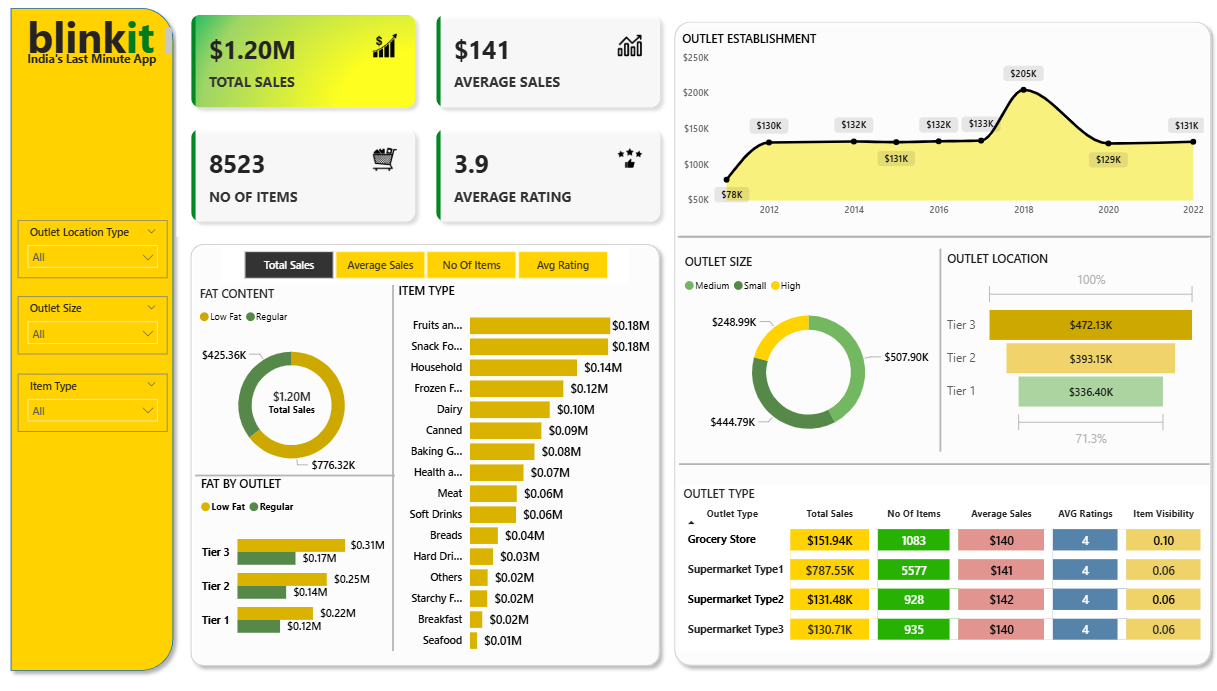

This screenshot's page, from the dashboard's own definition file:
{"tool":"powerbi","page":{"name":"Page 1","canvas":[1400,800],"ordinal":0},"visuals":[{"type":"shape","box":[10.5,0,204.1,775.9],"z":0},{"type":"textbox","box":[33,16.5,175.6,54],"z":1000},{"type":"textbox","box":[33,52.5,169.6,34.5],"z":2000},{"type":"cardVisual","fields":{"Data":["BlinkIT Grocery Data.Total Sales","BlinkIT Grocery Data.Average Sales","BlinkIT Grocery Data.No Of Items","BlinkIT Grocery Data.Average Ratings"]},"box":[208.6,0,570.3,270.2],"z":3000},{"type":"shape","box":[215,270,554,500],"z":4000},{"type":"donutChart","title":"FAT CONTENT","fields":{"Y":["BlinkIT Grocery Data.Total Sales"],"Category":["BlinkIT Grocery Data.Item Fat Content"]},"box":[229.6,325.7,220.6,229.6],"z":5000},{"type":"slicer","fields":{"Values":["Metrics.Metrics"]},"box":[259.6,280.7,465.3,45],"z":6000},{"type":"cardVisual","fields":{"Data":["BlinkIT Grocery Data.Total Sales"]},"box":[285.2,426.2,109.6,67.5],"z":7000},{"type":"clusteredBarChart","title":" FAT BY OUTLET","fields":{"Y":["BlinkIT Grocery Data.Total Sales"],"Category":["BlinkIT Grocery Data.Outlet Location Type"],"Series":["BlinkIT Grocery Data.Item Fat Content"]},"box":[231.7,543,219.9,202.2],"z":8000},{"type":"shape","box":[229.6,531.3,228.1,24],"z":9000},{"type":"shape","box":[450.3,325.7,12,418.7],"z":10000},{"type":"barChart","title":"ITEM TYPE","fields":{"Y":["BlinkIT Grocery Data.Total Sales"],"Category":["BlinkIT Grocery Data.Item Type"]},"box":[457.8,322.7,297.2,433.7],"z":11000},{"type":"shape","box":[768.8,16.2,631.5,754],"z":12000},{"type":"lineChart","title":"OUTLET ESTABLISHMENT","fields":{"Y":["BlinkIT Grocery Data.Total Sales"],"Category":["BlinkIT Grocery Data.Outlet Establishment Year"]},"box":[781.9,34.5,606.3,222.1],"z":13000},{"type":"shape","box":[785,256.7,606.5,26.6],"z":14000},{"type":"donutChart","title":"OUTLET SIZE","fields":{"Y":["BlinkIT Grocery Data.Total Sales"],"Category":["BlinkIT Grocery Data.Outlet Size"]},"box":[785,290.7,293.6,225.8],"z":15000},{"type":"shape","box":[1075.7,284.8,11.8,231.7],"z":16000},{"type":"funnel","title":"OUTLET LOCATION","fields":{"Y":["BlinkIT Grocery Data.Total Sales"],"Category":["BlinkIT Grocery Data.Outlet Location Type"]},"box":[1084.5,286.3,295.1,230.2],"z":17000},{"type":"shape","box":[783.5,516.4,606.5,26.6],"z":18000},{"type":"pivotTable","title":"OUTLET TYPE","fields":{"Rows":["BlinkIT Grocery Data.Outlet Type"],"Values":["BlinkIT Grocery Data.Total Sales","BlinkIT Grocery Data.No Of Items","BlinkIT Grocery Data.Average Sales","BlinkIT Grocery Data.AVG Ratings","Avg(BlinkIT Grocery Data.Item Visibility)"]},"box":[783.5,554.8,606.5,190.3],"z":19000},{"type":"actionButton","box":[0,0,100,40],"z":20000},{"type":"slicer","fields":{"Values":["BlinkIT Grocery Data.Outlet Location Type"]},"box":[26.6,250.8,171.2,66.4],"z":21000},{"type":"shape","box":[781.9,256.6,606.3,27],"z":22000},{"type":"slicer","fields":{"Values":["BlinkIT Grocery Data.Outlet Size"]},"box":[26.6,337.9,171.2,66.4],"z":23000},{"type":"slicer","fields":{"Values":["BlinkIT Grocery Data.Item Type"]},"box":[26.6,426.4,171.2,66.4],"z":23001}]}

Visuals, with their boxes in screenshot pixels (x1, y1, x2, y2), scaled from the page's 1400x800 canvas onto the 1217x691 screenshot:
shape: x1=9 y1=0 x2=187 y2=670
textbox: x1=29 y1=14 x2=181 y2=61
textbox: x1=29 y1=45 x2=176 y2=75
cardVisual - BlinkIT Grocery Data.Total Sales x BlinkIT Grocery Data.Average Sales: x1=181 y1=0 x2=677 y2=233
shape: x1=187 y1=233 x2=668 y2=665
"FAT CONTENT" donutChart: x1=200 y1=281 x2=391 y2=480
slicer - Metrics.Metrics: x1=226 y1=242 x2=630 y2=281
cardVisual - BlinkIT Grocery Data.Total Sales: x1=248 y1=368 x2=343 y2=426
" FAT BY OUTLET" clusteredBarChart: x1=201 y1=469 x2=393 y2=644
shape: x1=200 y1=459 x2=398 y2=480
shape: x1=391 y1=281 x2=402 y2=643
"ITEM TYPE" barChart: x1=398 y1=279 x2=656 y2=653
shape: x1=668 y1=14 x2=1216 y2=665
"OUTLET ESTABLISHMENT" lineChart: x1=680 y1=30 x2=1207 y2=222
shape: x1=682 y1=222 x2=1210 y2=245
"OUTLET SIZE" donutChart: x1=682 y1=251 x2=938 y2=446
shape: x1=935 y1=246 x2=945 y2=446
"OUTLET LOCATION" funnel: x1=943 y1=247 x2=1199 y2=446
shape: x1=681 y1=446 x2=1208 y2=469
"OUTLET TYPE" pivotTable: x1=681 y1=479 x2=1208 y2=644
actionButton: x1=0 y1=0 x2=87 y2=35
slicer - BlinkIT Grocery Data.Outlet Location Type: x1=23 y1=217 x2=172 y2=274
shape: x1=680 y1=222 x2=1207 y2=245
slicer - BlinkIT Grocery Data.Outlet Size: x1=23 y1=292 x2=172 y2=349
slicer - BlinkIT Grocery Data.Item Type: x1=23 y1=368 x2=172 y2=426
